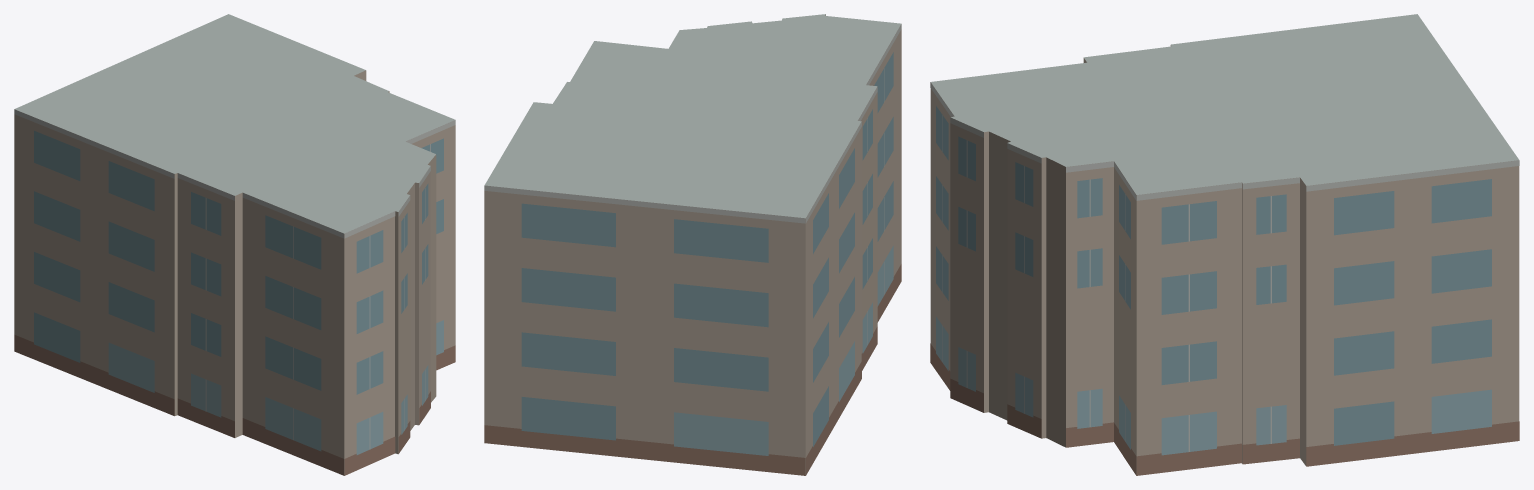
Rendered from survey-upis-32462550.glb.
The picture shows the model from 3 angles, left to right: view 1: azimuth 30°, elevation 25°; view 2: azimuth 150°, elevation 25°; view 3: azimuth 270°, elevation 25°; orthographic projection. The views are drawn at different scales.
Visible parts, largest first — view 1: survey-upis-32462550.tmp; view 2: survey-upis-32462550.tmp; view 3: survey-upis-32462550.tmp.
Boxes of the visible parts, x1,y1,x2,y2 form: survey-upis-32462550.tmp: (14, 14, 455, 475); survey-upis-32462550.tmp: (484, 14, 901, 475); survey-upis-32462550.tmp: (930, 14, 1519, 475).
Size of the model in its own units: 16.36 by 11.82 by 22.48.
